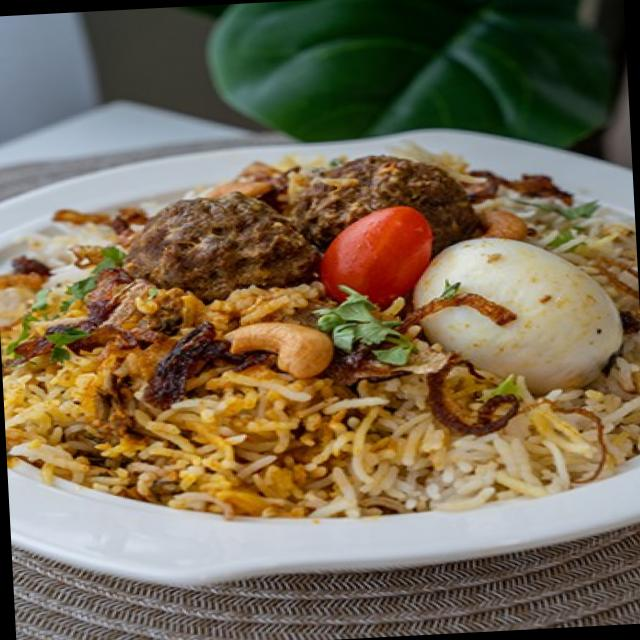Biryani: (0, 131, 640, 533)
